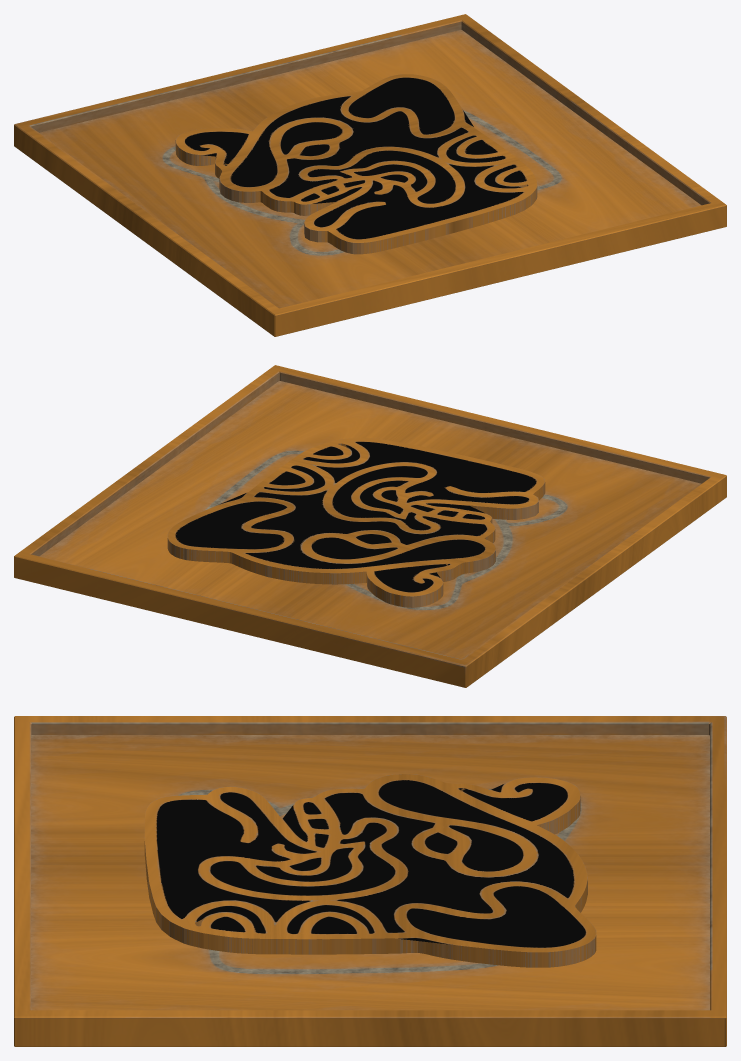
File: Woodworks_Mayan_Glyph_ZOTZ.fbx
The picture shows the model from 3 angles, top to bottom: view 1: azimuth 30°, elevation 25°; view 2: azimuth 150°, elevation 25°; view 3: azimuth 270°, elevation 25°; orthographic projection. The views are drawn at different scales.
Parts seen in each view (by area): view 1: Woodwork_Canvas_LP, Woodwork_ZOTZ_LP, Woodwork_Frame; view 2: Woodwork_Canvas_LP, Woodwork_ZOTZ_LP, Woodwork_Frame; view 3: Woodwork_Canvas_LP, Woodwork_ZOTZ_LP, Woodwork_Frame.
Boxes of the visible parts, x1,y1,x2,y2 form: Woodwork_Canvas_LP: [39, 30, 701, 308]; Woodwork_ZOTZ_LP: [175, 74, 537, 254]; Woodwork_Frame: [14, 14, 726, 336]; Woodwork_Canvas_LP: [39, 381, 701, 659]; Woodwork_ZOTZ_LP: [167, 438, 545, 607]; Woodwork_Frame: [14, 365, 726, 687]; Woodwork_Canvas_LP: [31, 735, 709, 1010]; Woodwork_ZOTZ_LP: [144, 774, 596, 967]; Woodwork_Frame: [14, 716, 726, 1046].
Size of the model in its own units: 62.99 by 3.22 by 62.99.
